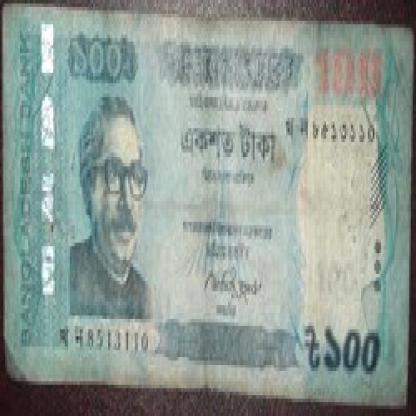one hundred taka: (308, 38, 388, 104), (321, 319, 381, 378), (65, 35, 133, 80)
